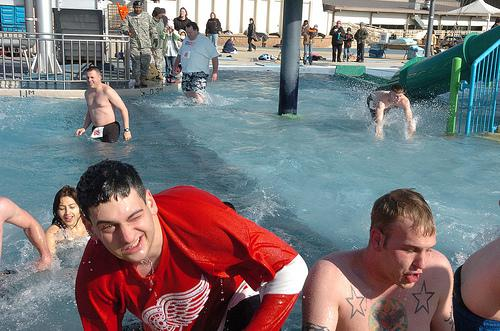swimmer: (73, 161, 298, 330), (296, 188, 458, 330), (76, 66, 134, 148), (41, 182, 83, 255), (177, 25, 218, 99), (367, 82, 413, 137)
